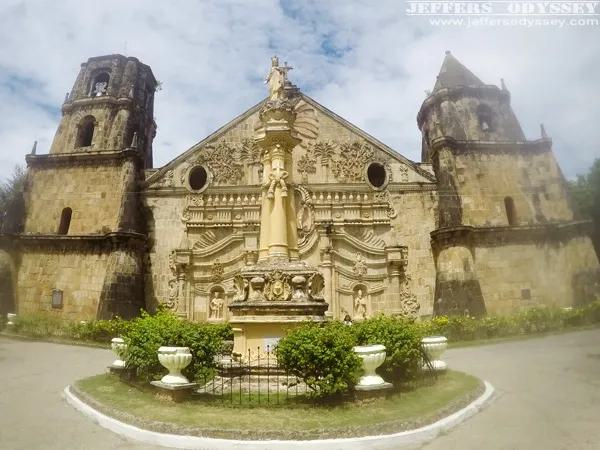Miagao Church: (7, 46, 599, 338)
